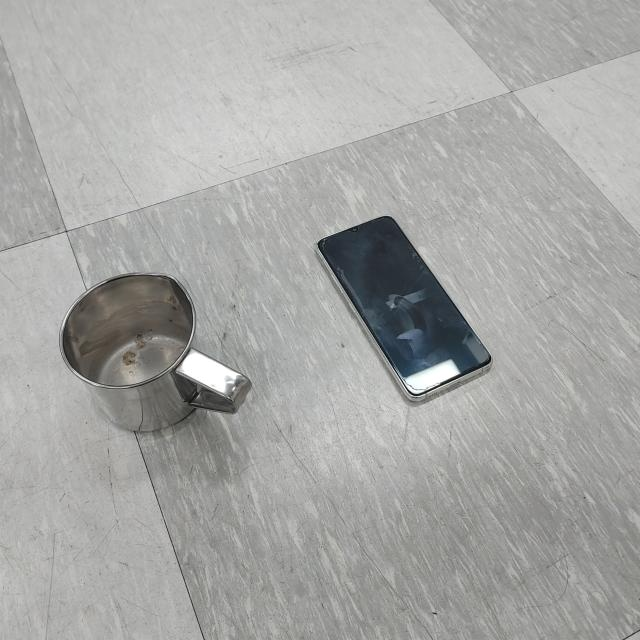cup: (60, 269, 252, 434)
phone: (314, 211, 499, 404)
